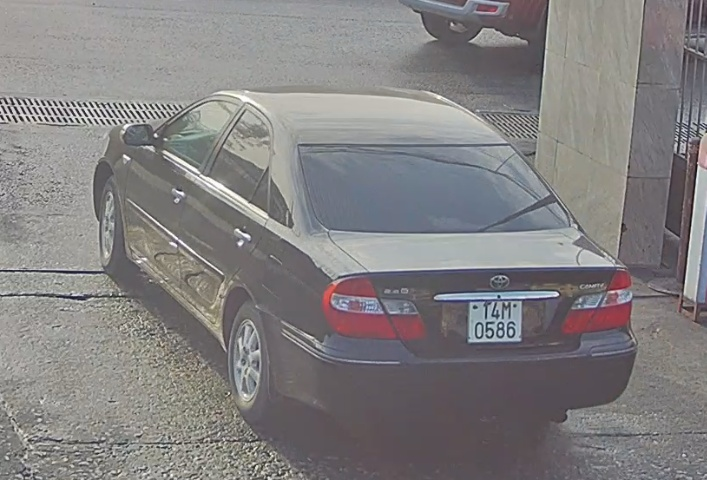vehicle plate: (465, 297, 526, 346)
